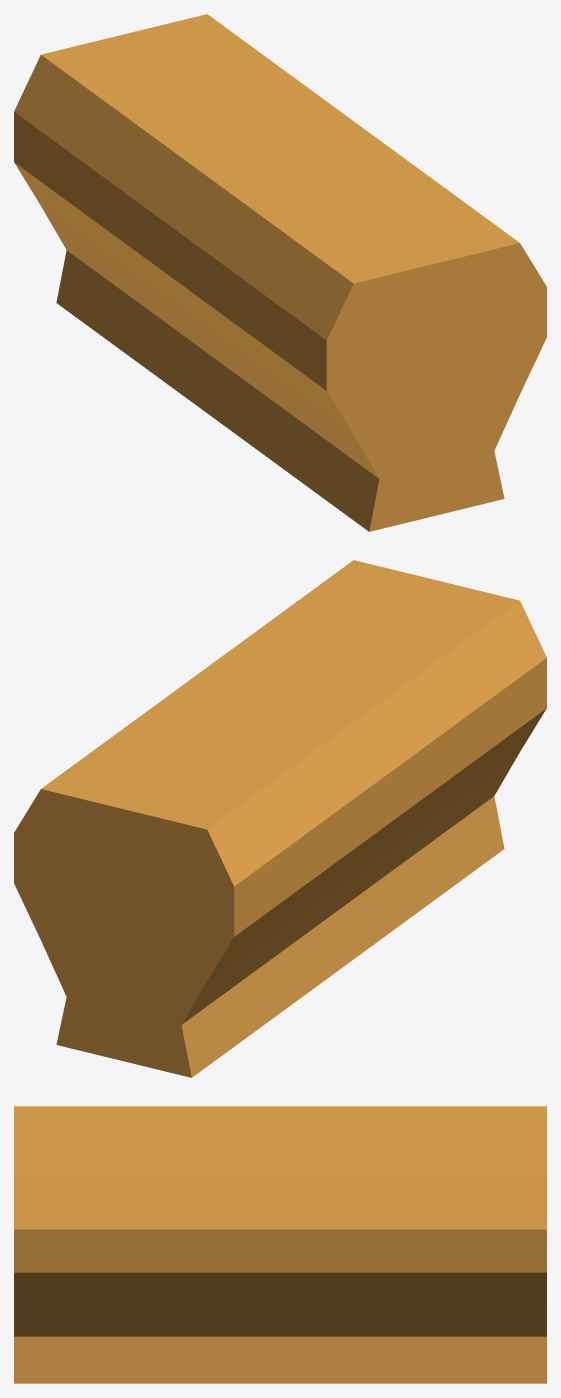
File: Body_Dahl.glb
3 views of the same model, one above another, from view 1: azimuth 30°, elevation 25°; view 2: azimuth 150°, elevation 25°; view 3: azimuth 270°, elevation 25° (orthographic). The views are drawn at different scales.
Visible parts, largest first — view 1: Body.Dahl; view 2: Body.Dahl; view 3: Body.Dahl.
Part boxes in pixels (box(x1,y1,x2,y2)): Body.Dahl: box(14, 14, 546, 531); Body.Dahl: box(14, 560, 546, 1077); Body.Dahl: box(14, 1106, 546, 1383).
Bounding box in the file's own units: 0.3155 × 0.3451 × 0.7762.
